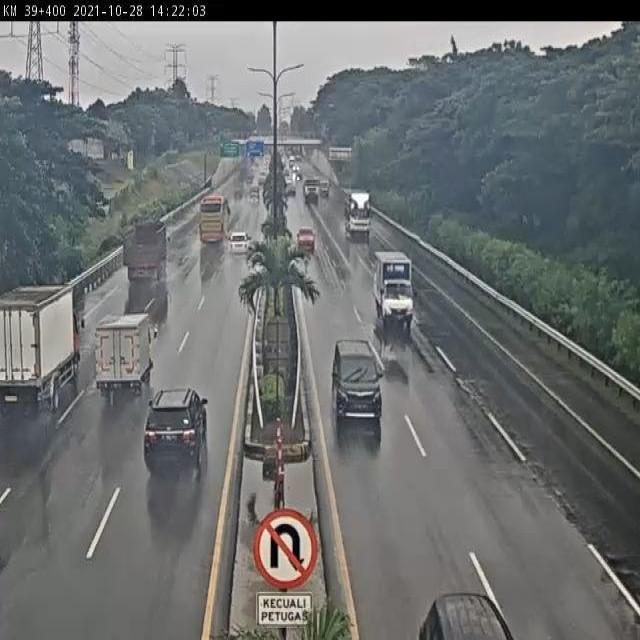big bus: (197, 193, 229, 246)
car: (144, 388, 211, 472), (331, 335, 384, 421), (227, 226, 252, 258), (297, 226, 317, 253)
truck-l-: (0, 284, 83, 417), (122, 217, 171, 284), (343, 191, 373, 240)
truck-s-: (91, 310, 155, 394), (372, 250, 418, 326)
